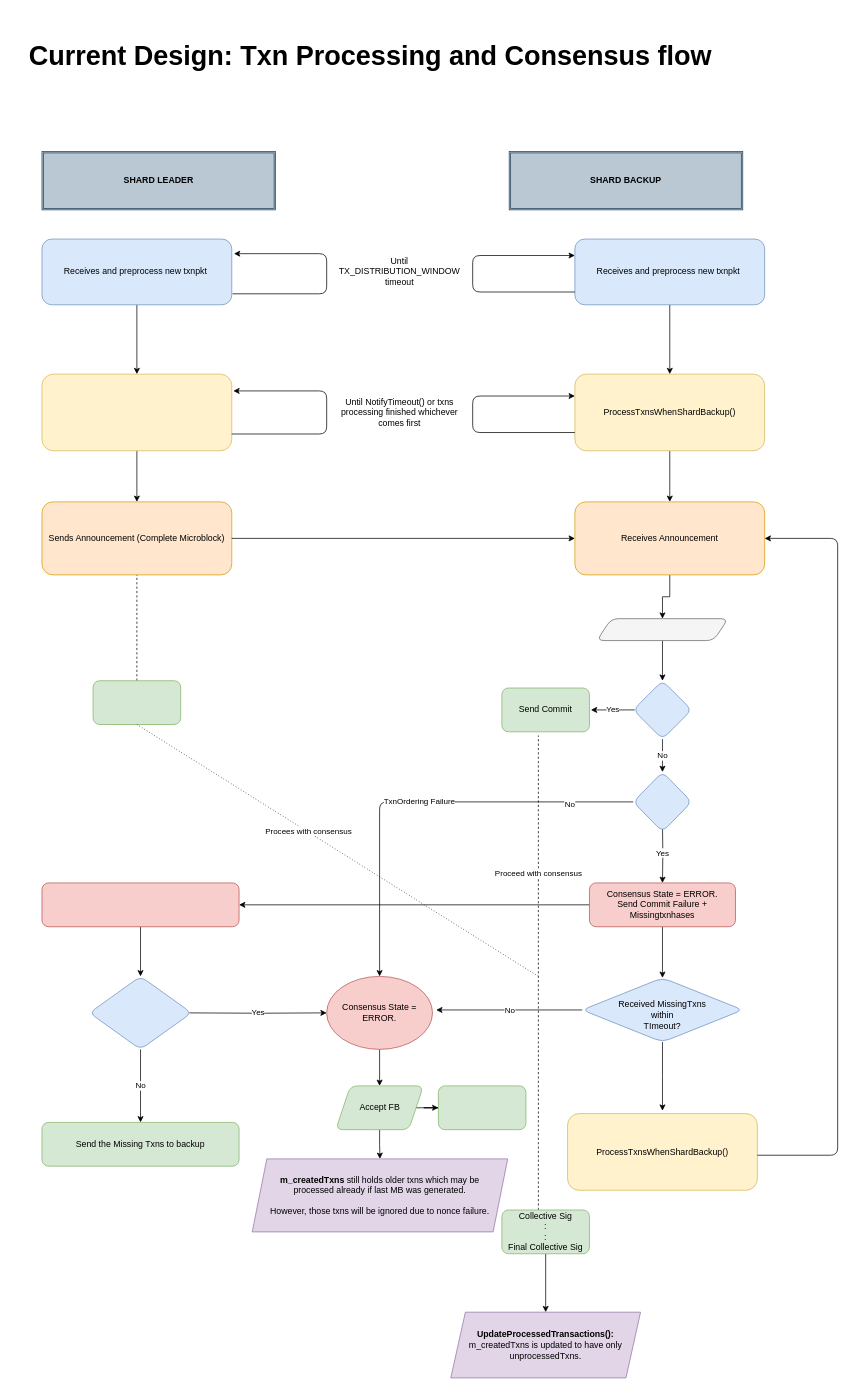
The diagram is 856 pixels wide and 1391 high, and some of its shapes have lost their labels. The shapes that lost their labels are listed below. From the top down, each one's centre as x and y in pixels, then its label:
pixel 136 412: ProcessTxnsWhenShardLeader()
pixel 662 629: Perform MB validation.
pixel 136 702: Receives Commit
pixel 662 709: Success
pixel 662 801: Missing Txn
pixel 140 904: Receives Commit Failure.
pixel 140 1012: No. of Commit failure > 1/3
pixel 482 1107: Prep-process Buffered Txn Pkt from previous epoch
